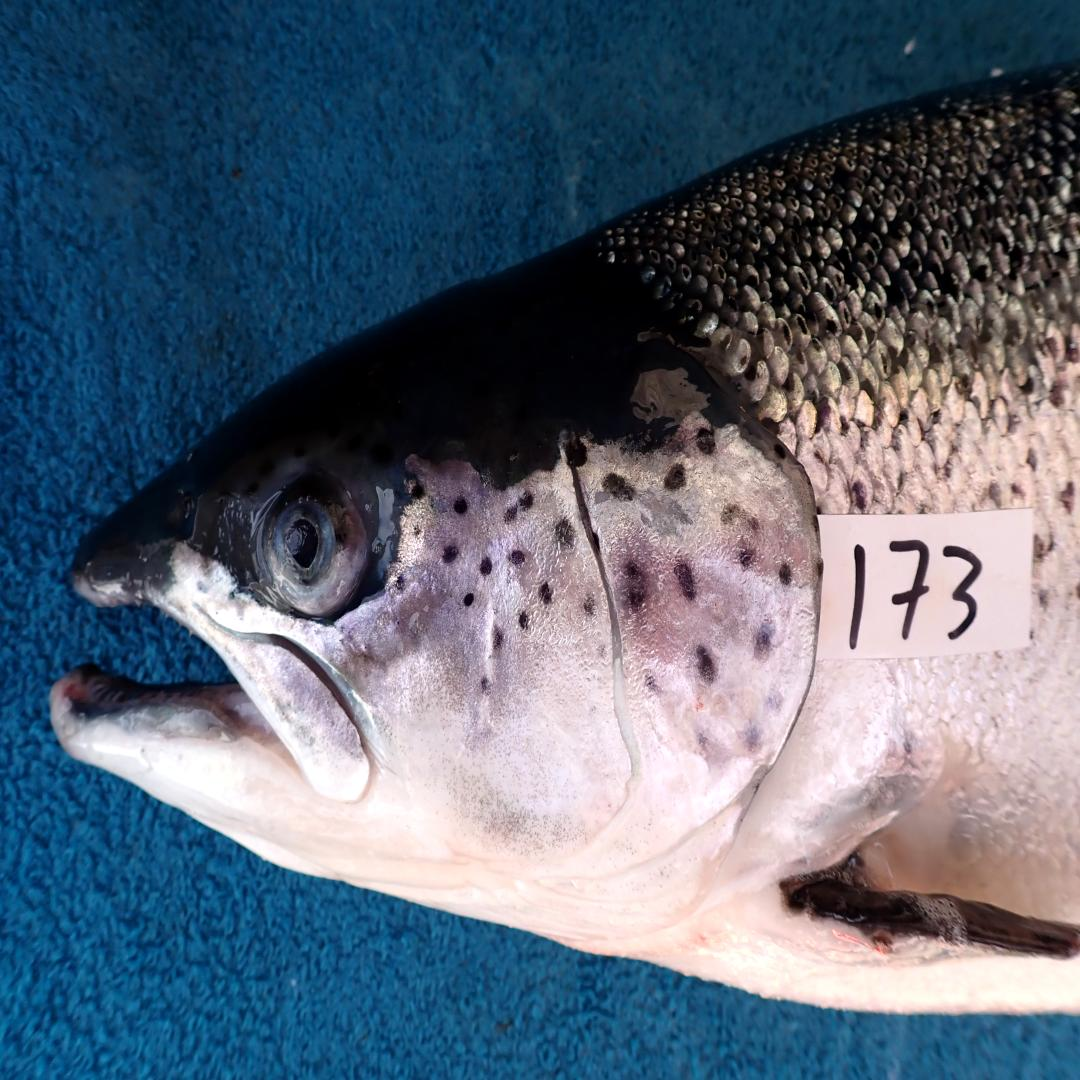roi: (371, 416, 823, 960)
